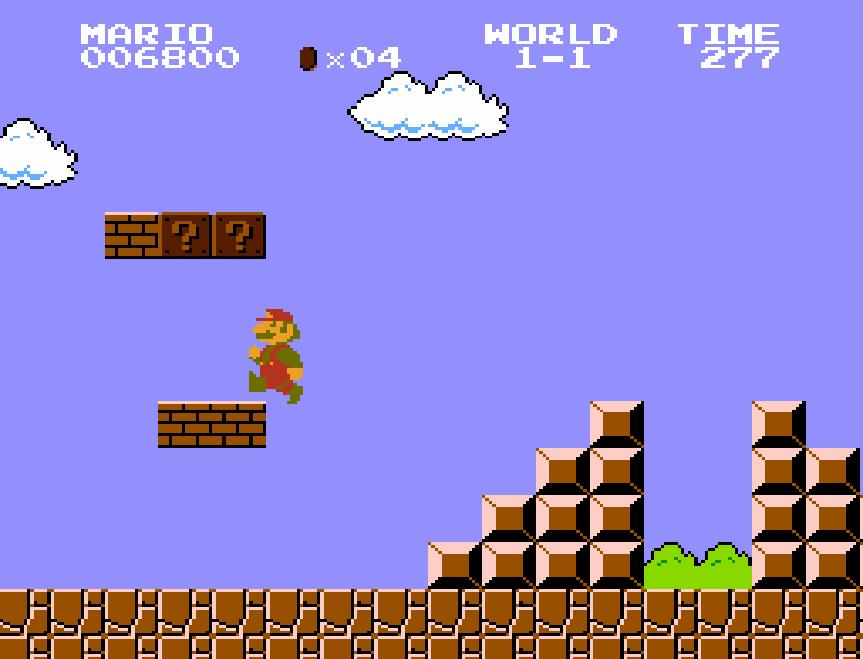big_mario: (247, 307, 305, 405)
